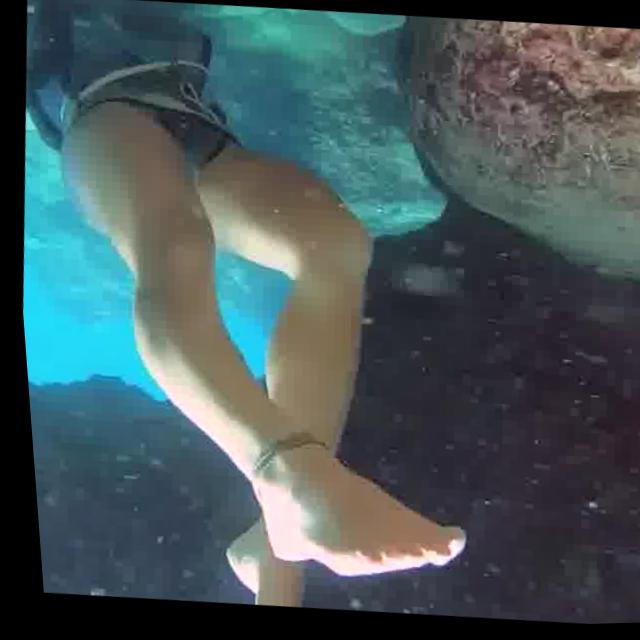human: (0, 0, 518, 629)
